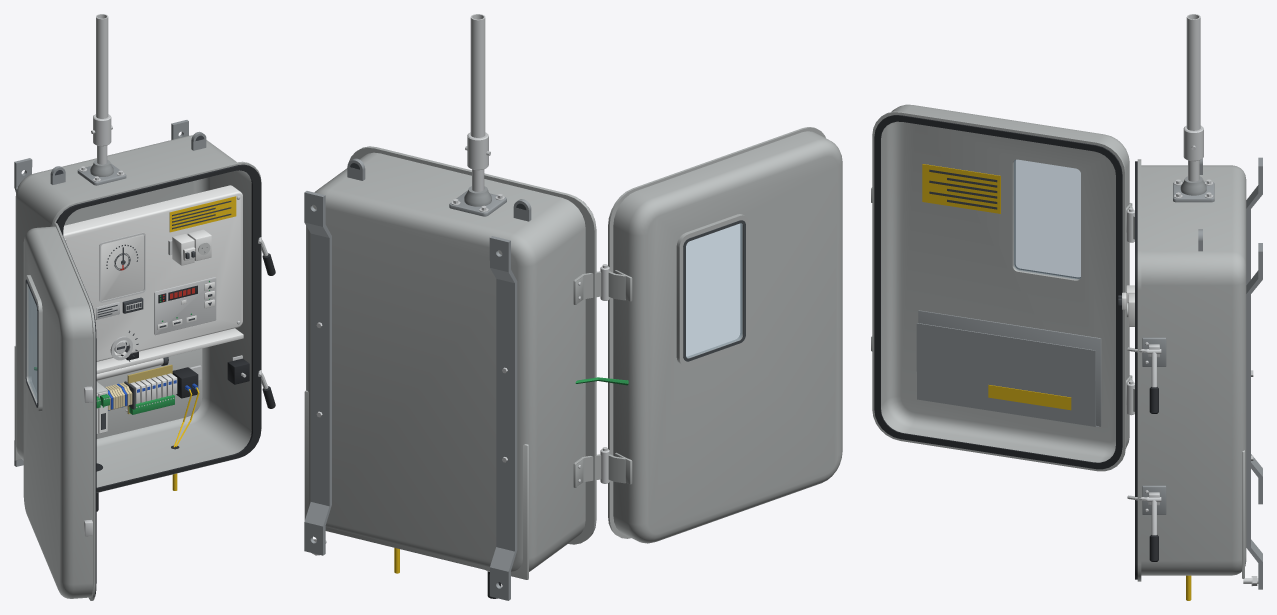
The model's file is shmd.glb.
3 renders of one model, left to right at view 1: azimuth 30°, elevation 25°; view 2: azimuth 150°, elevation 25°; view 3: azimuth 270°, elevation 25°, orthographic. The views are drawn at different scales.
Parts seen in each view (by area): view 1: shmd-housing, shmd-door, shmd-panel, shmd-dial, shmd-lcs, shmd-window, vshaft, shmd-jd, shmd-shaft, shmd-cx, shmd-latch, shmd-rail (+8 smaller); view 2: shmd-housing, shmd-door, shmd-rail, shmd-window, vshaft, shmd-shaft, shmd-lug; view 3: shmd-door, shmd-housing, shmd-pocket, shmd-window, shmd-label, shmd-rail, shmd-latch, vshaft, shmd-shaft.
Boxes of the visible parts, x1=… form: shmd-housing: x1=14, y1=135, x2=261, y2=492; shmd-door: x1=23, y1=223, x2=96, y2=600; shmd-panel: x1=63, y1=185, x2=243, y2=373; shmd-dial: x1=99, y1=232, x2=145, y2=302; shmd-lcs: x1=154, y1=277, x2=216, y2=335; shmd-window: x1=25, y1=275, x2=42, y2=411; vshaft: x1=91, y1=14, x2=112, y2=146; shmd-jd: x1=125, y1=364, x2=177, y2=414; shmd-shaft: x1=77, y1=145, x2=126, y2=185; shmd-cx: x1=172, y1=367, x2=199, y2=447; shmd-latch: x1=84, y1=237, x2=275, y2=536; shmd-rail: x1=14, y1=120, x2=188, y2=466; shmd-housing: x1=304, y1=146, x2=596, y2=579; shmd-door: x1=573, y1=127, x2=842, y2=543; shmd-rail: x1=304, y1=191, x2=517, y2=600; shmd-window: x1=676, y1=214, x2=749, y2=365; vshaft: x1=465, y1=14, x2=490, y2=170; shmd-shaft: x1=449, y1=169, x2=506, y2=216; shmd-lug: x1=347, y1=158, x2=531, y2=221; shmd-door: x1=872, y1=104, x2=1134, y2=471; shmd-housing: x1=1135, y1=159, x2=1246, y2=581; shmd-pocket: x1=916, y1=310, x2=1101, y2=426; shmd-window: x1=1013, y1=159, x2=1080, y2=280; shmd-label: x1=922, y1=164, x2=1071, y2=410; shmd-rail: x1=1246, y1=157, x2=1262, y2=589; shmd-latch: x1=871, y1=187, x2=1166, y2=561; vshaft: x1=1183, y1=14, x2=1203, y2=161; shmd-shaft: x1=1173, y1=160, x2=1214, y2=202.
Bounding box in the file's own units: 0.9123 × 1.3 × 0.8446.
